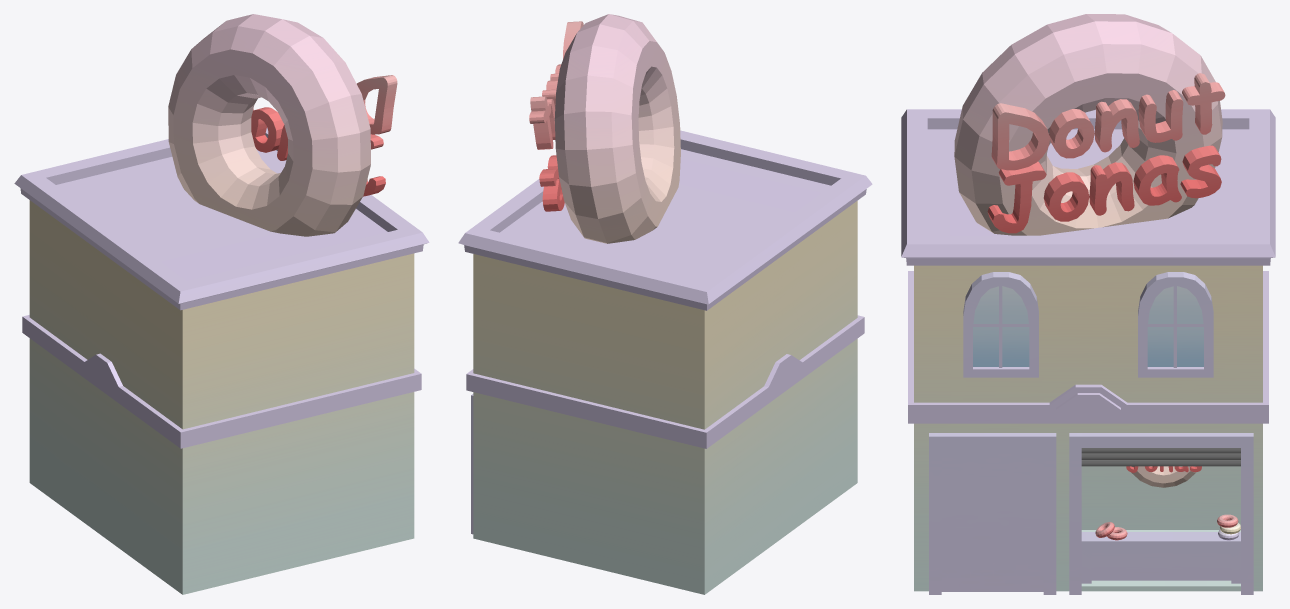
Rendered from Gebeude_8.glb.
3 renders of one model, left to right at view 1: azimuth 30°, elevation 25°; view 2: azimuth 150°, elevation 25°; view 3: azimuth 270°, elevation 25°, orthographic. The views are drawn at different scales.
Visible parts, largest first — view 1: Cube.018; view 2: Cube.018; view 3: Cube.018.
Boxes of the visible parts, x1=… form: Cube.018: x1=14, y1=14, x2=429, y2=594; Cube.018: x1=458, y1=14, x2=872, y2=594; Cube.018: x1=901, y1=14, x2=1275, y2=594.
Size of the model in its own units: 5.62 by 9.74 by 6.12.
Materials: 1 (1 with a texture image).
